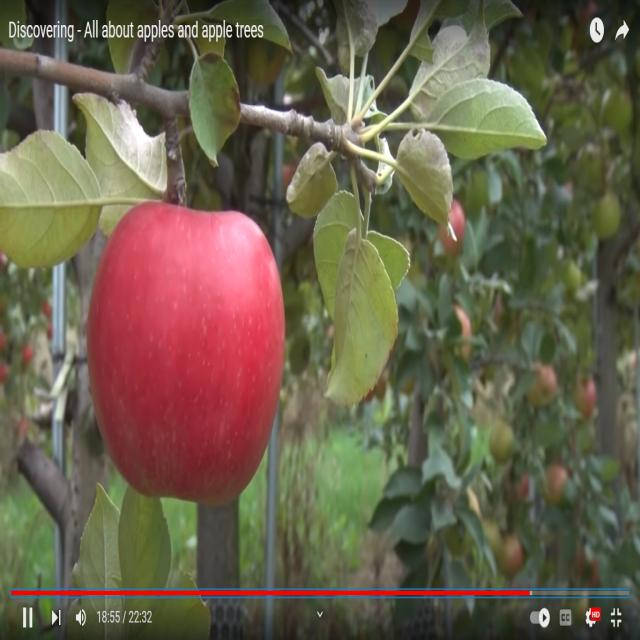100-_ripeness: (89, 181, 280, 508)
